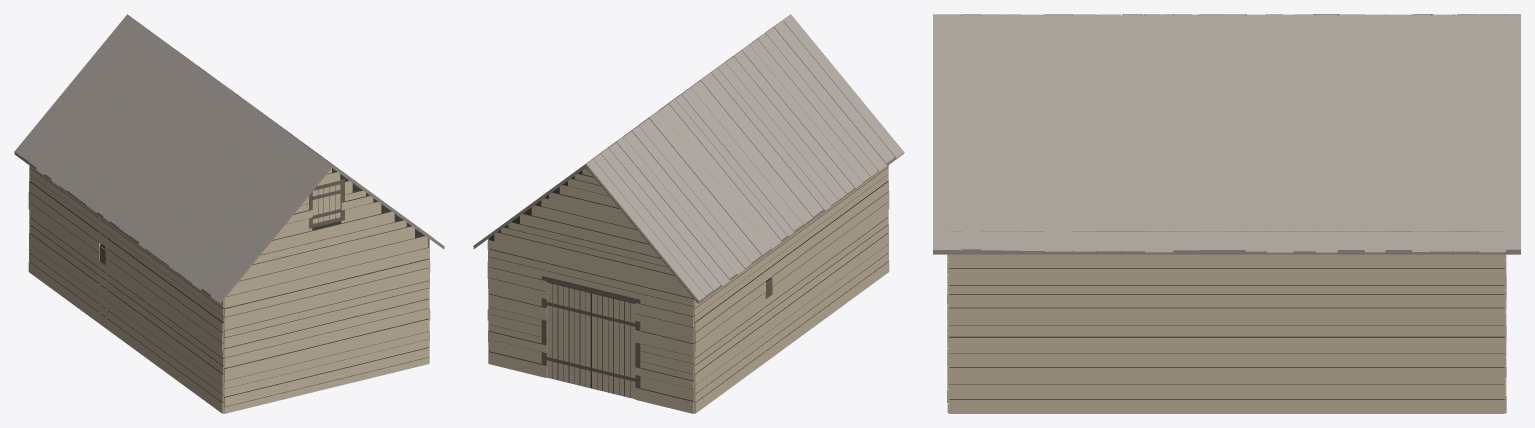
The model's file is recon_1835_west_024__inferred_1835.glb.
3 renders of one model, left to right at view 1: azimuth 30°, elevation 25°; view 2: azimuth 150°, elevation 25°; view 3: azimuth 270°, elevation 25°, orthographic. The views are drawn at different scales.
Visible parts, largest first — view 1: recon_1835_west_024__inferred_1835; view 2: recon_1835_west_024__inferred_1835; view 3: recon_1835_west_024__inferred_1835.
Part boxes in pixels (x1,y1,x2,y2): recon_1835_west_024__inferred_1835: [14, 14, 444, 413]; recon_1835_west_024__inferred_1835: [473, 14, 904, 413]; recon_1835_west_024__inferred_1835: [933, 14, 1520, 413].
Bounding box in the file's own units: 7.45 × 7.15 × 11.62.
